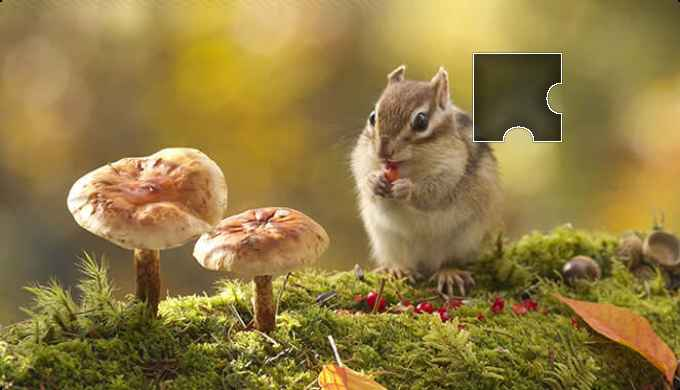gap: (471, 52, 563, 143)
